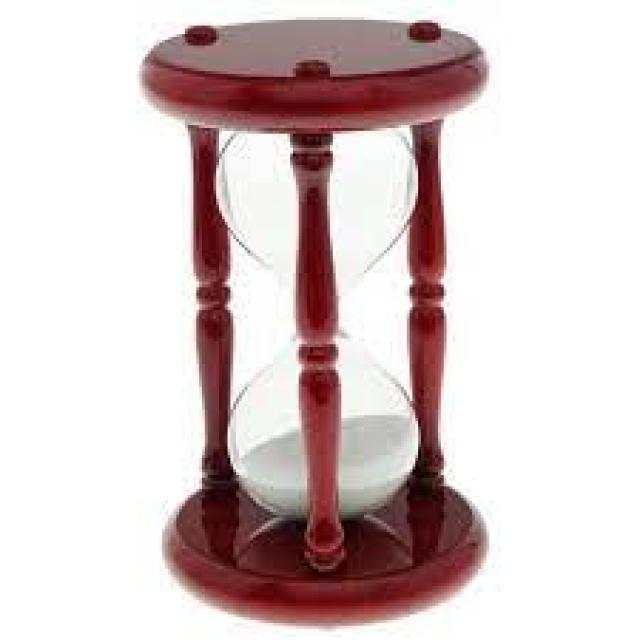clock: (125, 16, 537, 616)
